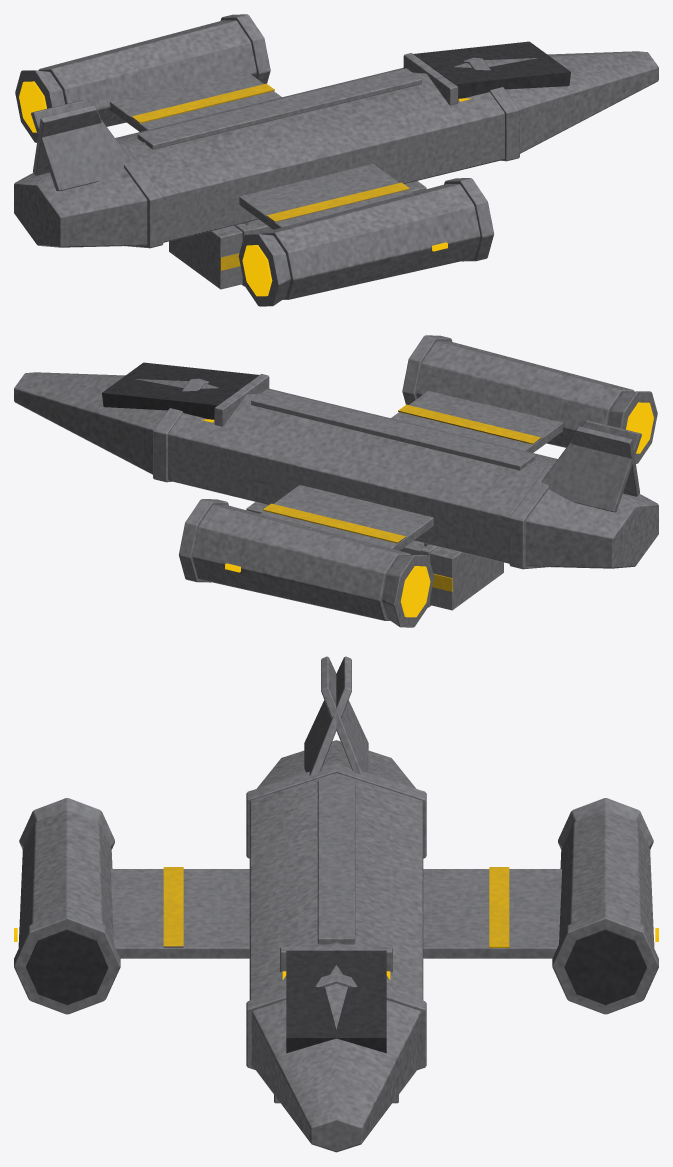
File: nodexeus-skiff.glb
The picture shows the model from 3 angles, top to bottom: view 1: azimuth 30°, elevation 25°; view 2: azimuth 150°, elevation 25°; view 3: azimuth 270°, elevation 25°; orthographic projection. The views are drawn at different scales.
Parts seen in each view (by area): view 1: skiff; view 2: skiff; view 3: skiff.
Part boxes in pixels (x1,y1,x2,y2): skiff: (14, 14, 658, 306); skiff: (14, 335, 658, 627); skiff: (14, 656, 658, 1152).
Bounding box in the file's own units: 6.8 × 2.08 × 5.15.
Materials: 1 (1 with a texture image).
